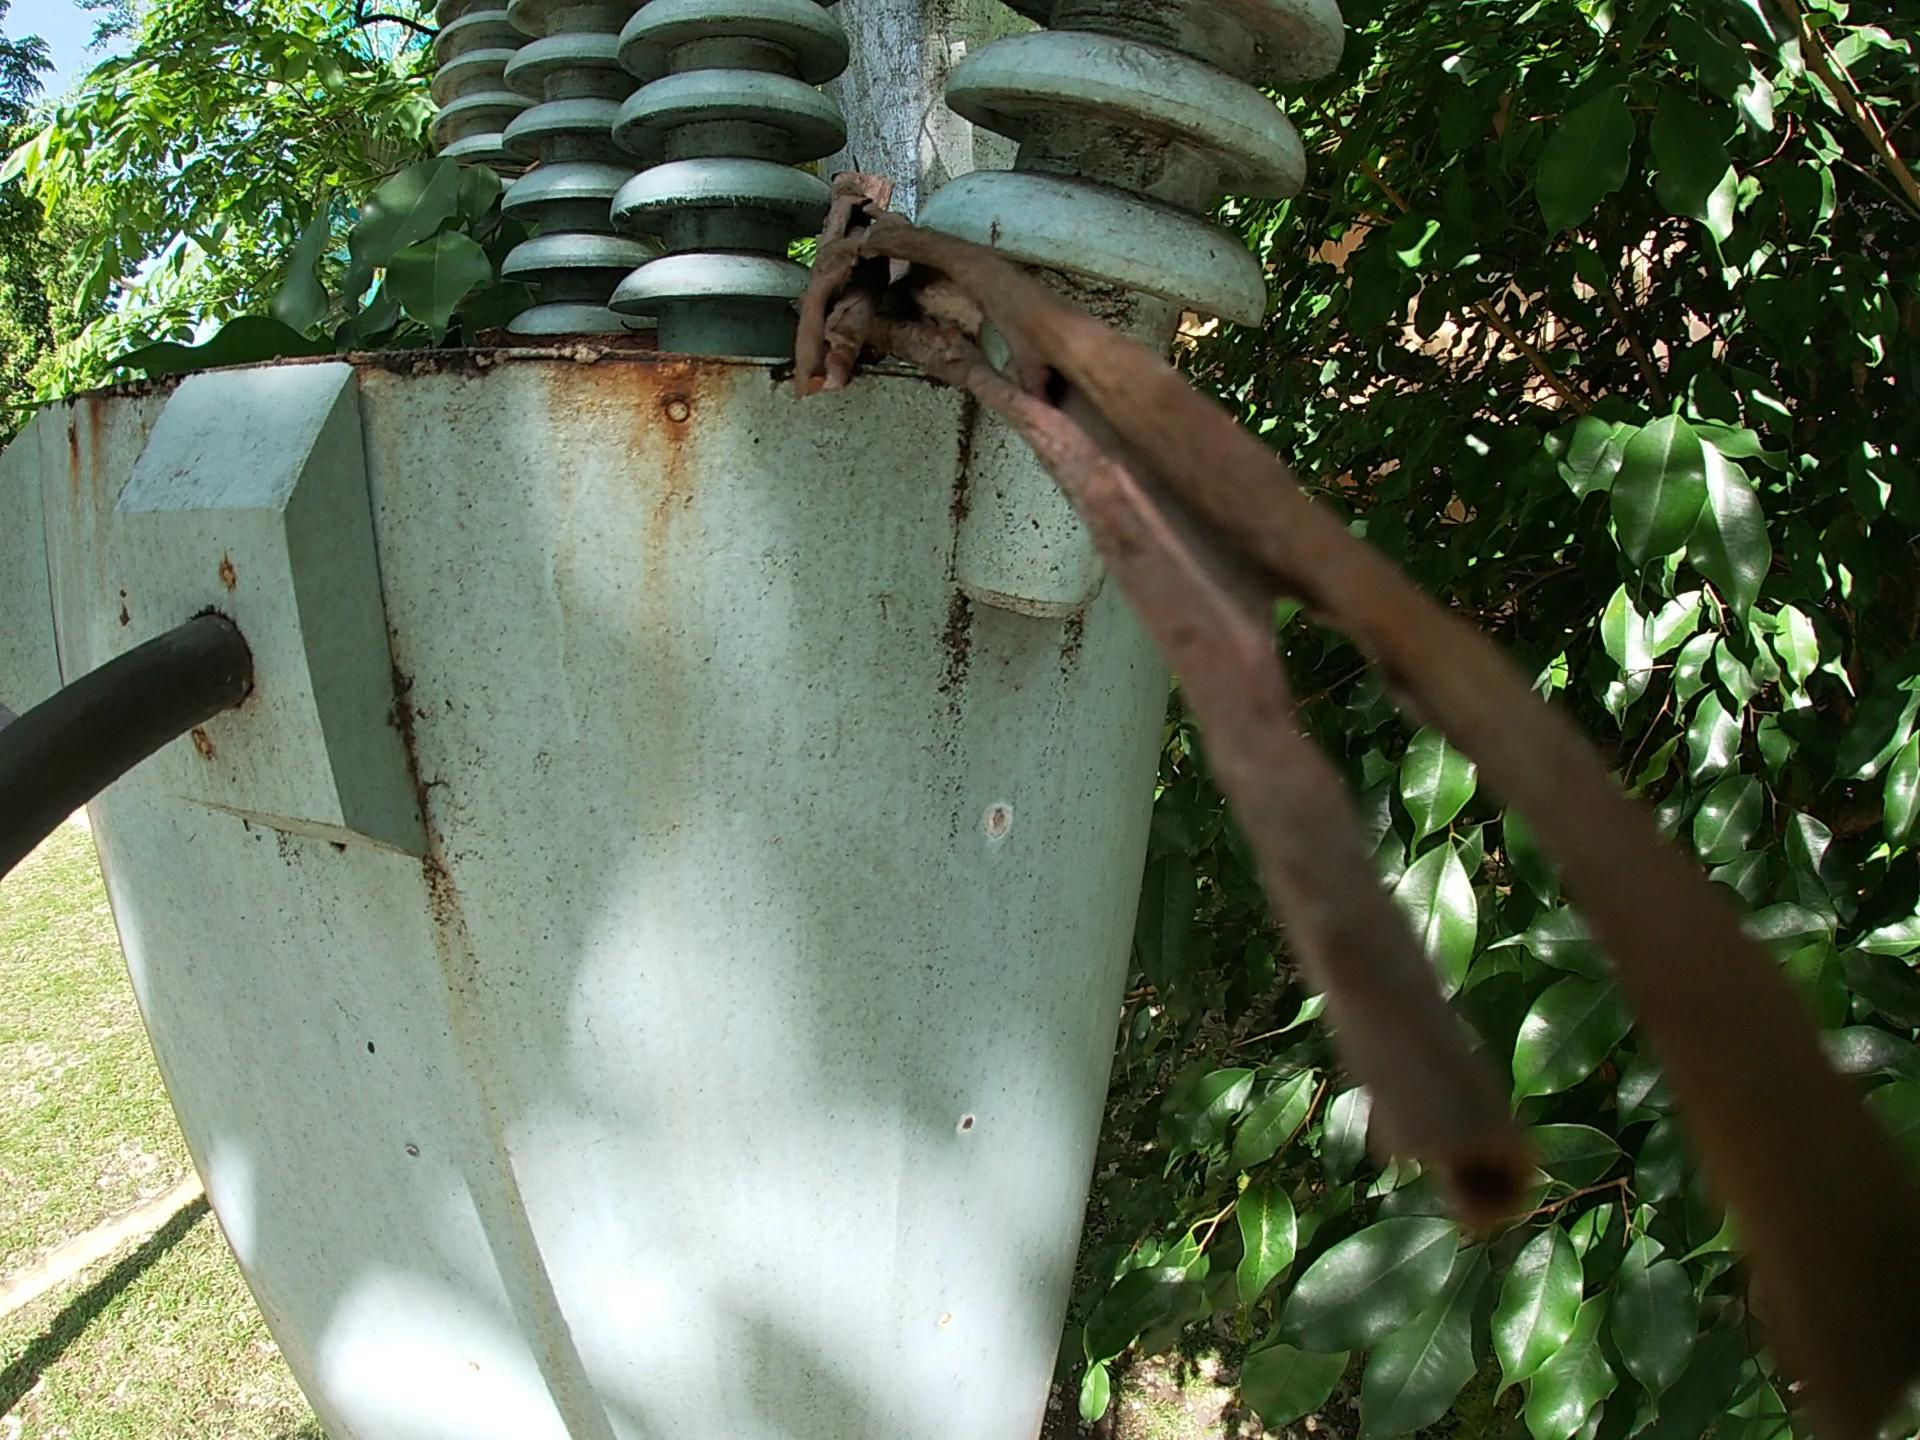branch with leaves: (2, 110, 508, 352)
mahogany fruit: (543, 325, 664, 352)
tree branch: (788, 171, 1894, 1351)
